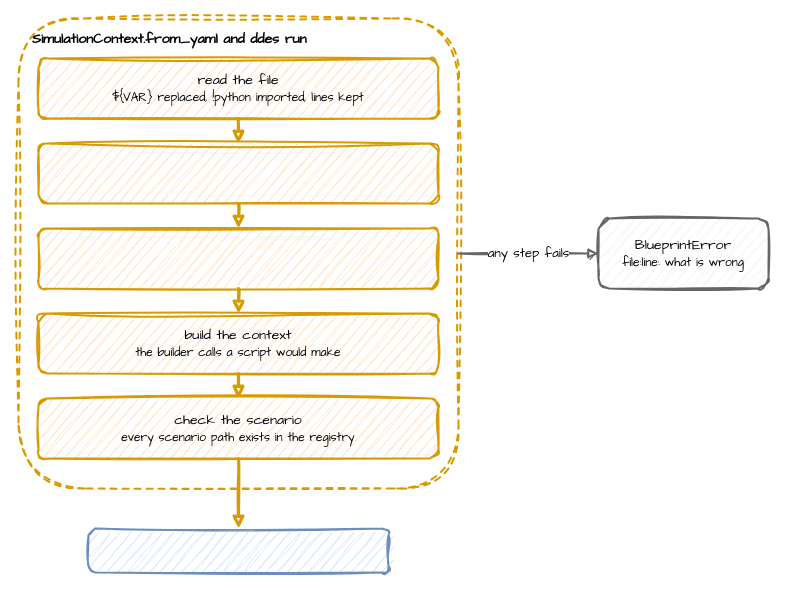
Image size: 786x590. Some labels were removed from this diagram. The box of each missing label's shape, as (x1, y1, x2, y2) in pixels:
check every field types and required keys; one now for every relative time: (37, 142, 439, 204)
check the names tasks, services, resources and arrivals exist: (37, 227, 439, 289)
SimulationContext, ready to run: (87, 527, 389, 573)
